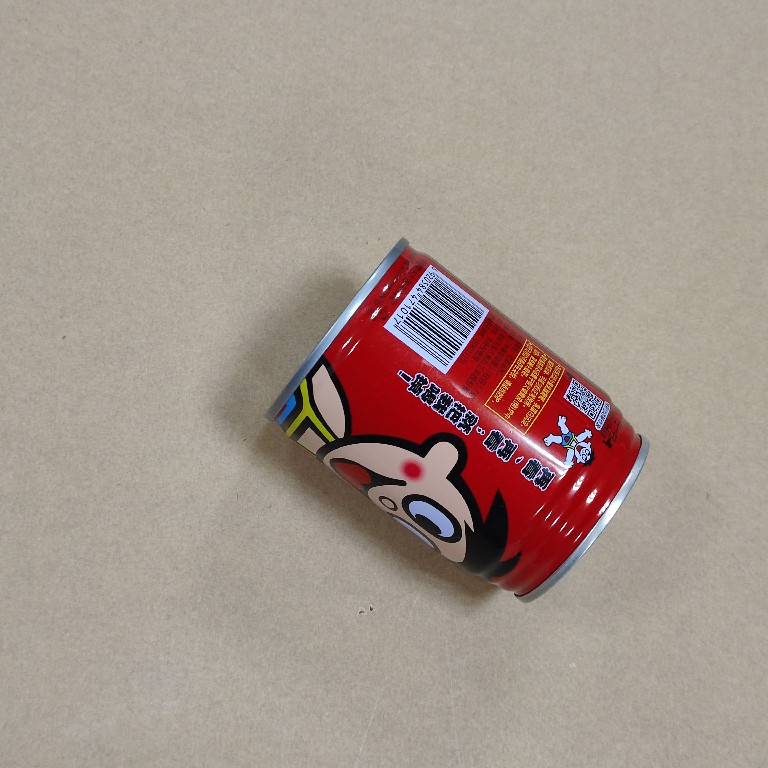can: (259, 235, 655, 609)
